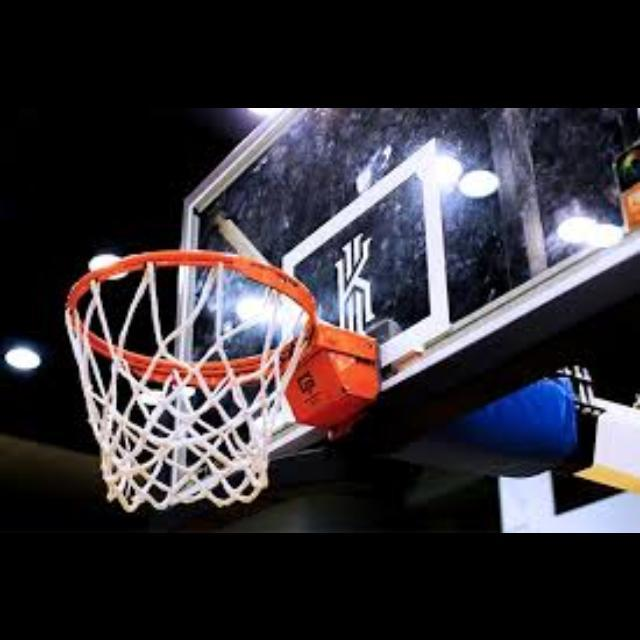rim: (62, 248, 314, 510)
